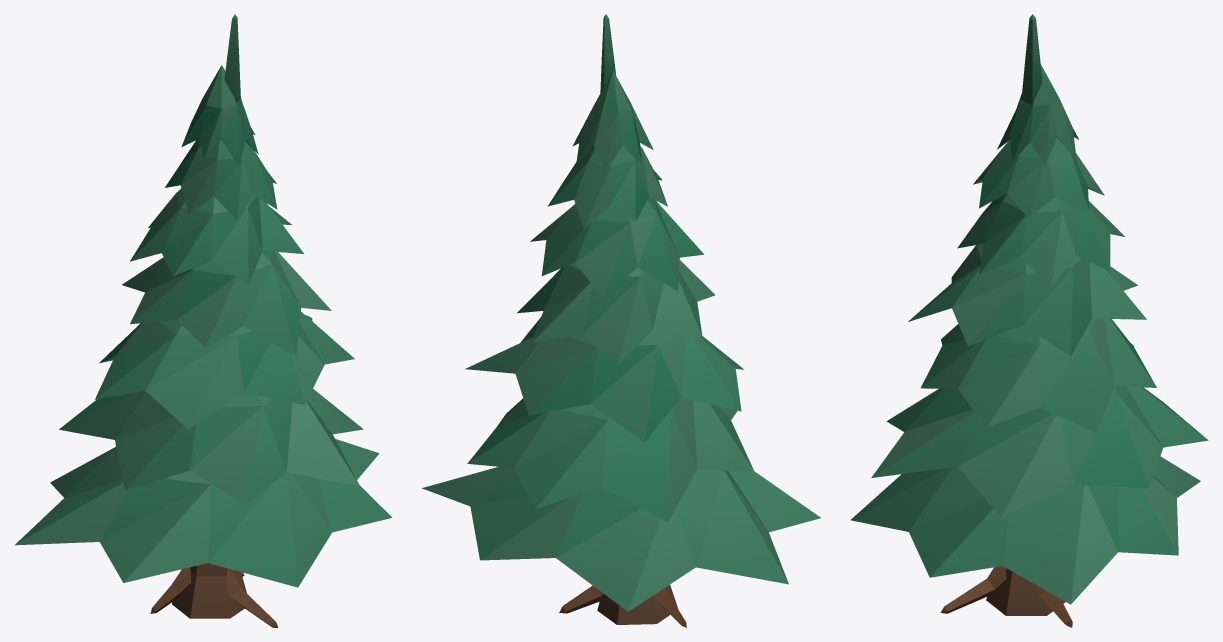
File: world_tree_pine_v3.fbx
3 renders of one model, left to right at view 1: azimuth 30°, elevation 25°; view 2: azimuth 150°, elevation 25°; view 3: azimuth 270°, elevation 25°, orthographic. The views are drawn at different scales.
Parts seen in each view (by area): view 1: world_tree_pine_v3; view 2: world_tree_pine_v3; view 3: world_tree_pine_v3.
Part boxes in pixels (box(x1,y1,x2,y2)): world_tree_pine_v3: box(15, 14, 392, 627); world_tree_pine_v3: box(422, 14, 820, 627); world_tree_pine_v3: box(850, 14, 1208, 627).
Size of the model in its own units: 1060 by 1624 by 878.
